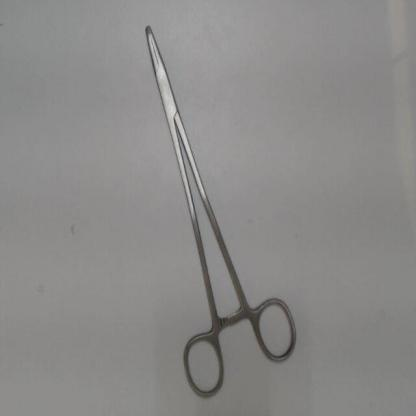8 Mayo Needle Holder: (136, 12, 307, 408)
